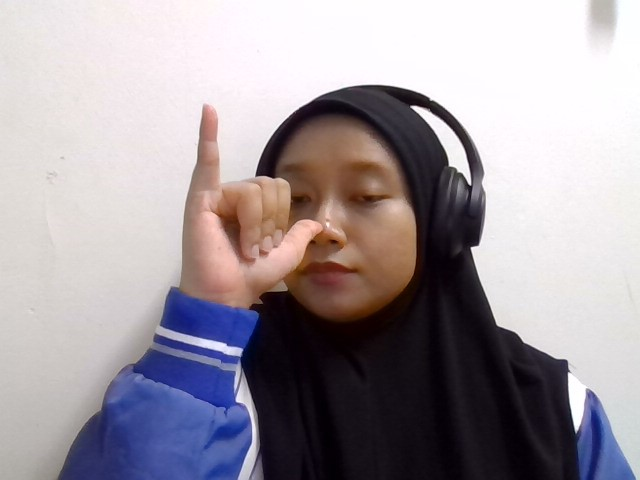BadakSumbu: (181, 102, 360, 297)
